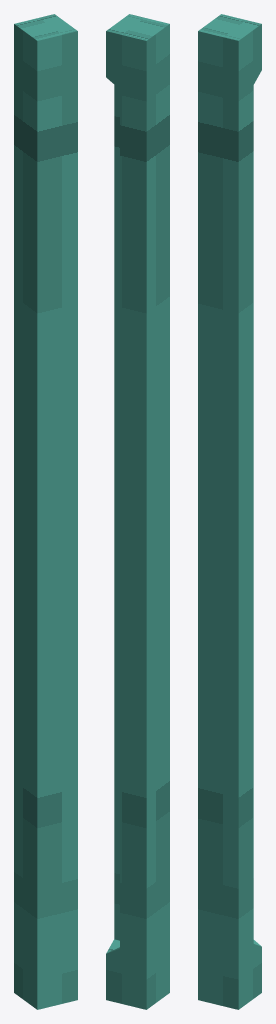
The model's file is SM_CornerPost_Trim.fbx.
The picture shows the model from 3 angles, left to right: view 1: azimuth 30°, elevation 25°; view 2: azimuth 150°, elevation 25°; view 3: azimuth 330°, elevation 25°; orthographic projection.
Parts seen in each view (by area): view 1: SM_CornerPost_Trim; view 2: SM_CornerPost_Trim; view 3: SM_CornerPost_Trim.
Part boxes in pixels (x1,y1,x2,y2): SM_CornerPost_Trim: (14, 14, 77, 1009); SM_CornerPost_Trim: (106, 14, 169, 1009); SM_CornerPost_Trim: (198, 14, 261, 1009).
Bounding box in the file's own units: 15.29 × 350 × 15.29.
